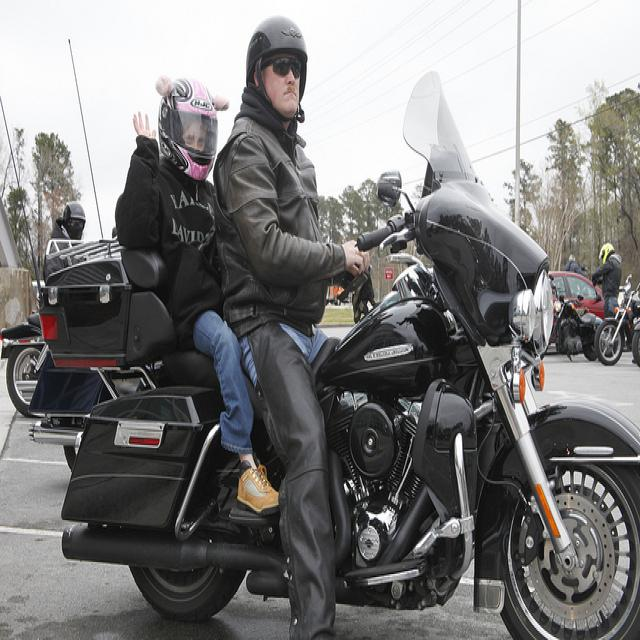motor: (60, 82, 640, 630), (41, 242, 222, 398), (594, 271, 640, 365), (2, 310, 43, 415)
